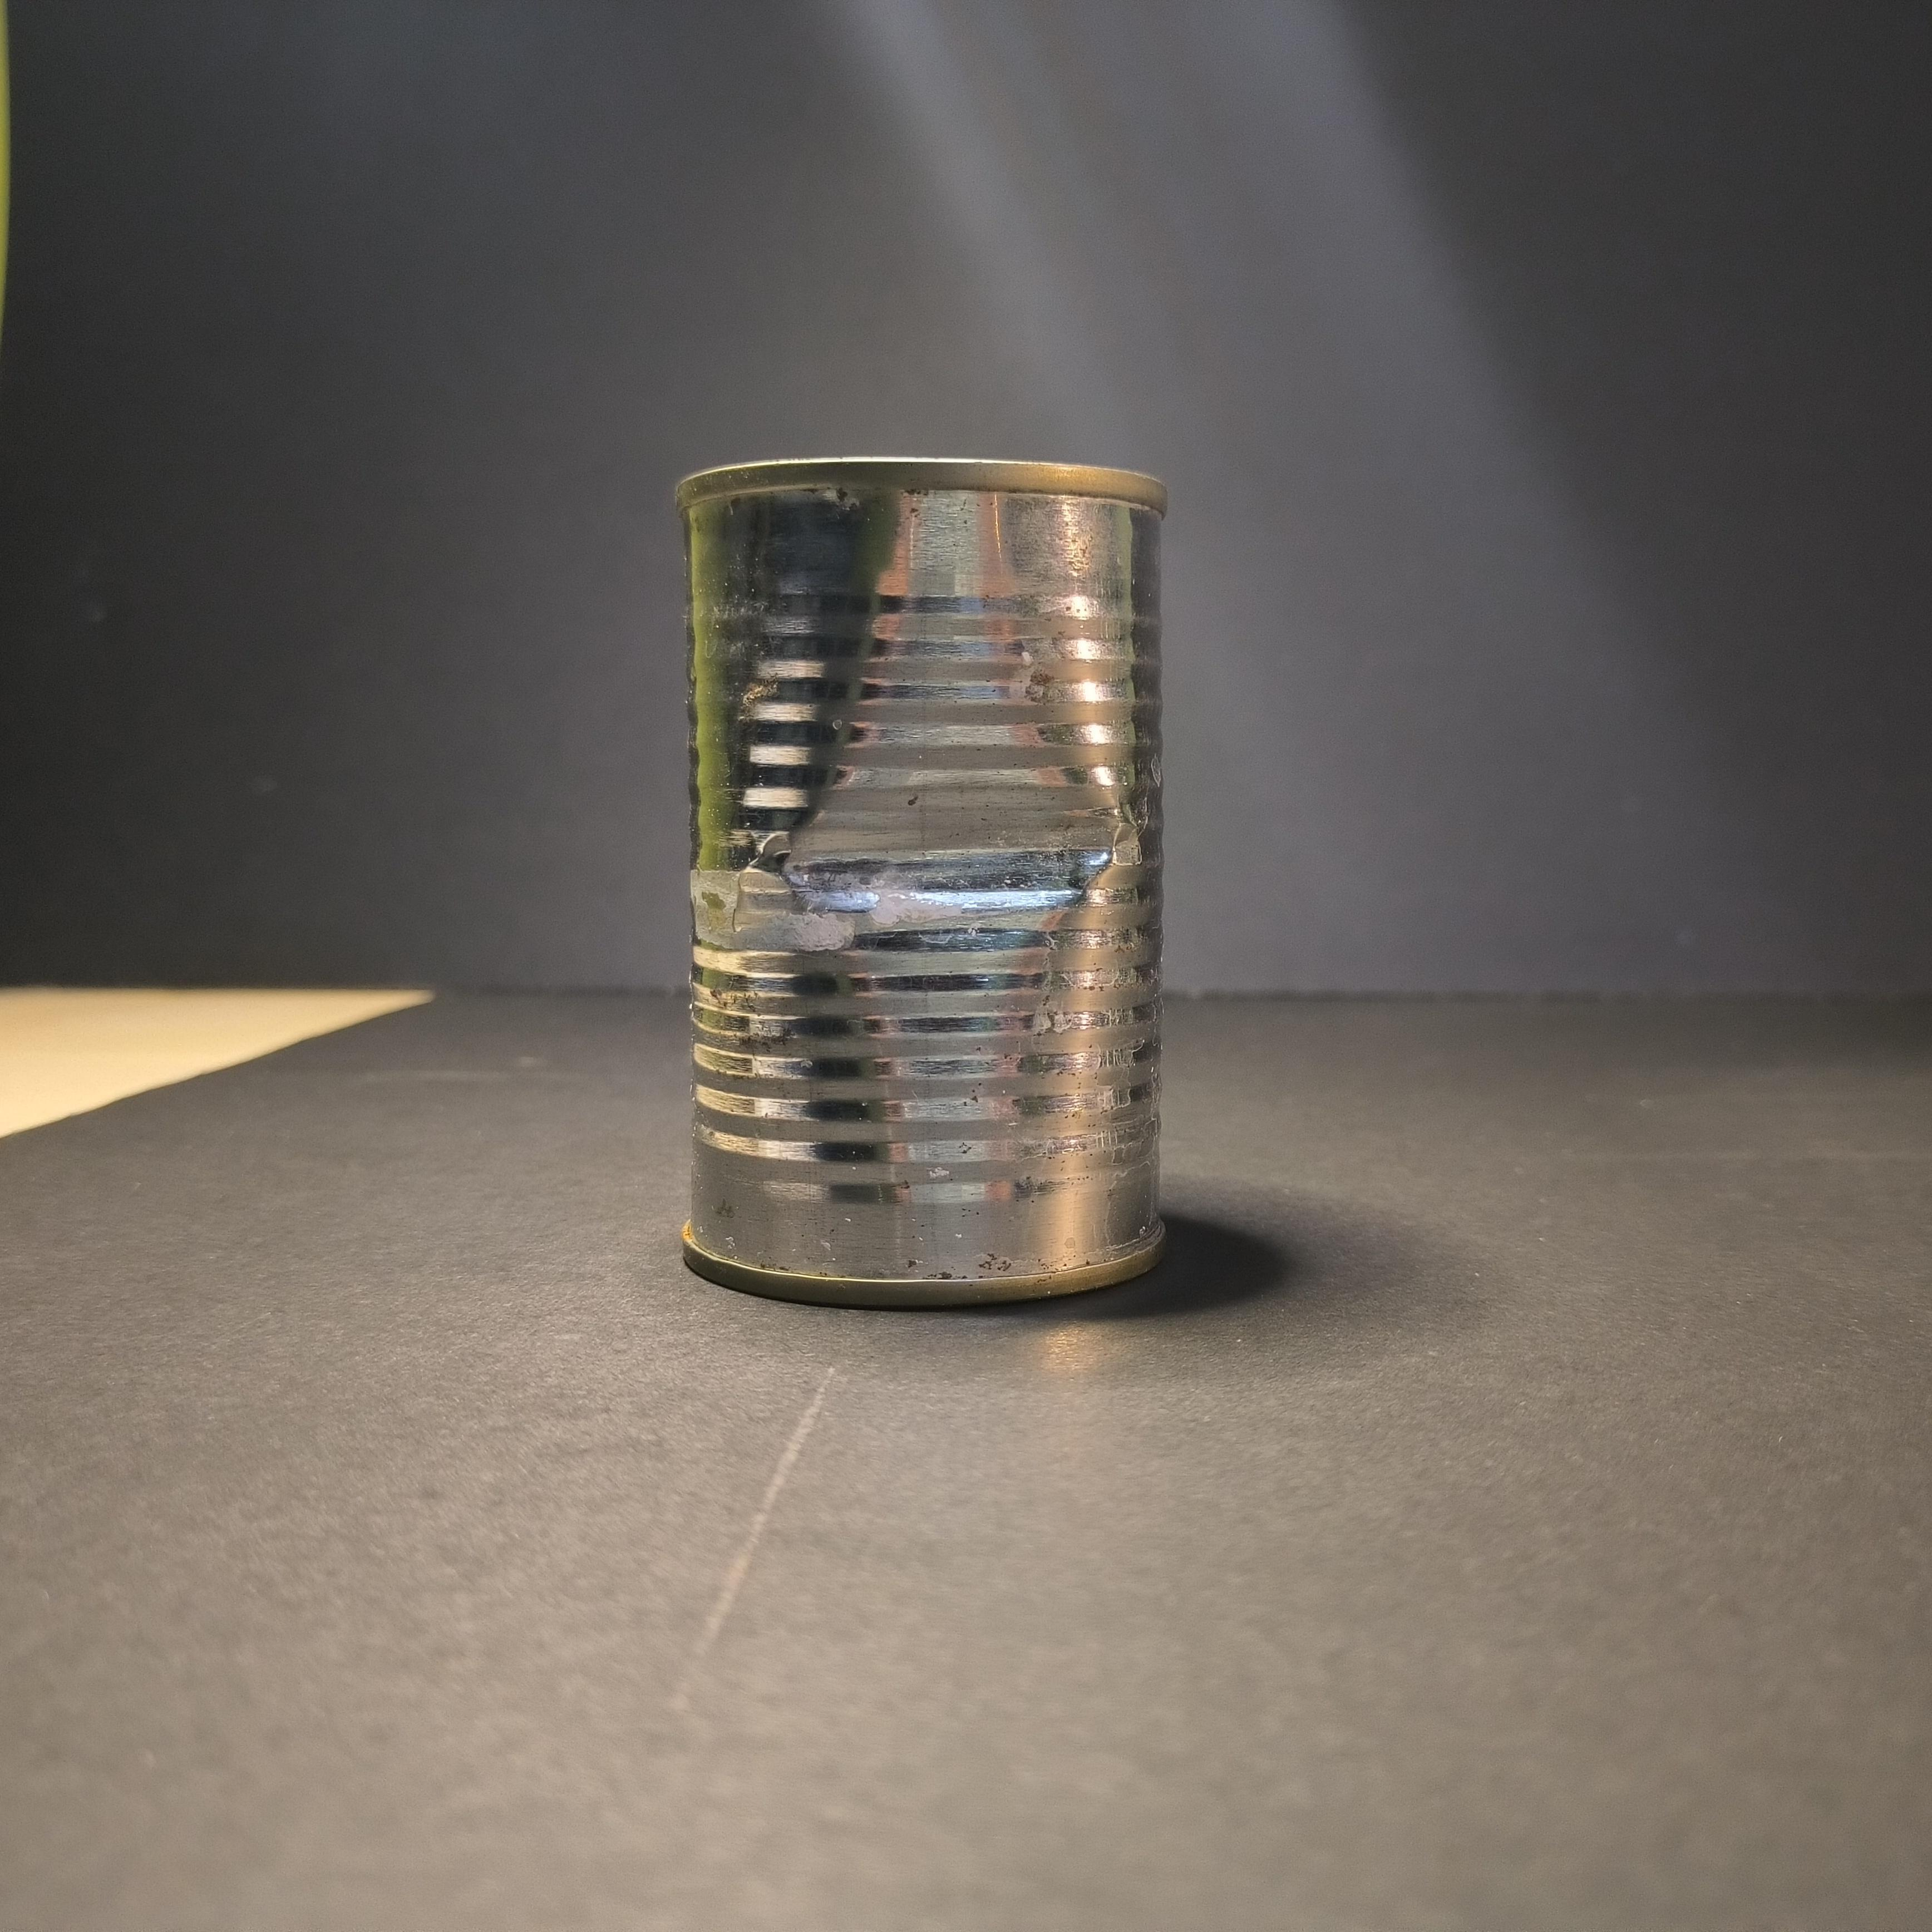Dented: (635, 407, 1201, 1330)
